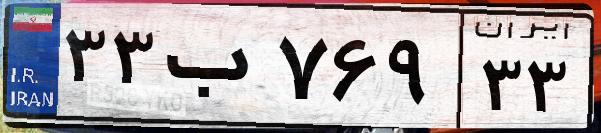3: (57, 26, 110, 100), (475, 38, 525, 113), (525, 38, 570, 115), (110, 28, 158, 98)
6: (330, 28, 385, 110)
7: (270, 28, 330, 110)
9: (385, 28, 445, 110)
ب: (158, 20, 270, 120)
